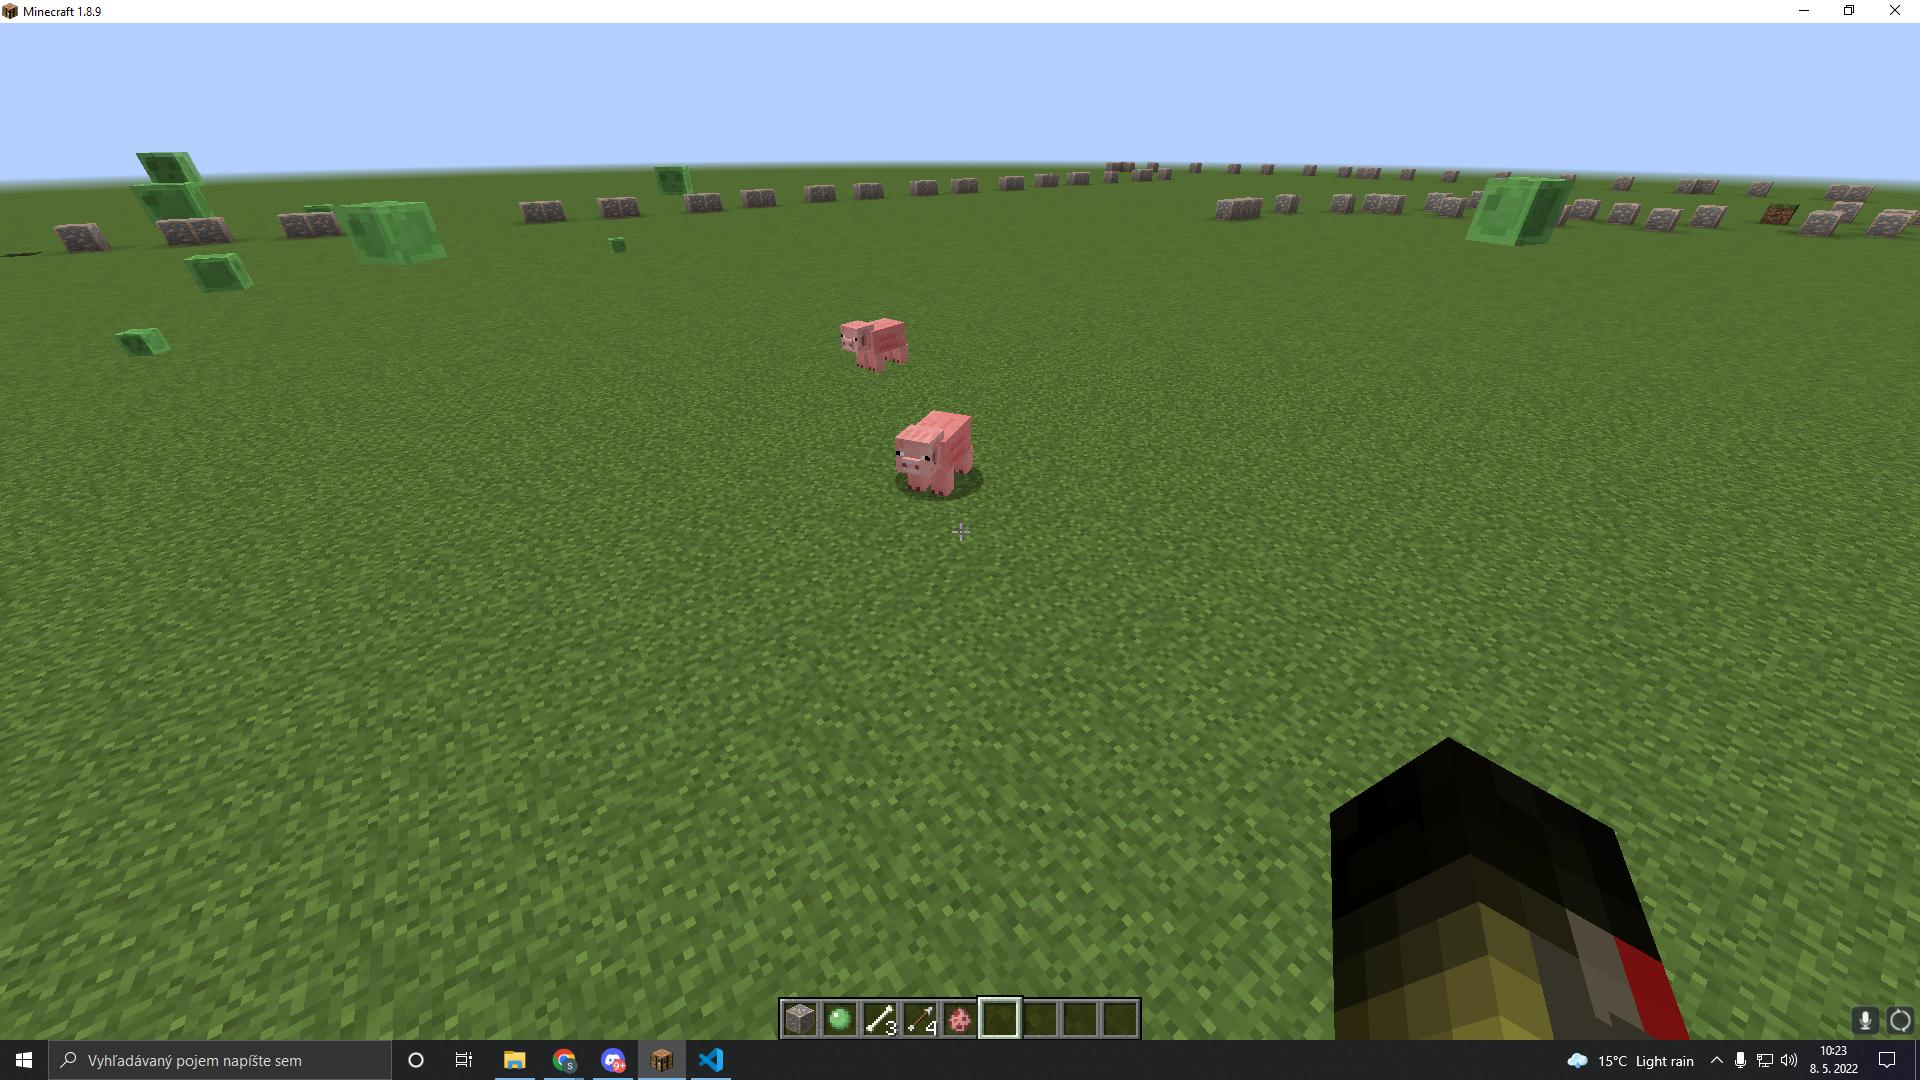pig: (886, 404, 989, 508), (824, 307, 922, 378)
